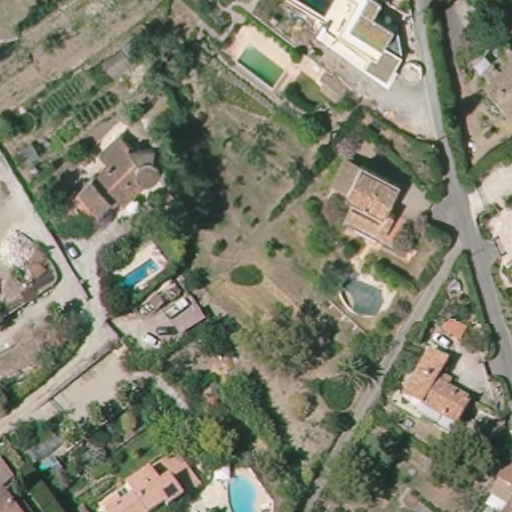pool: (233, 44, 284, 93), (116, 258, 161, 291), (223, 470, 260, 509)
